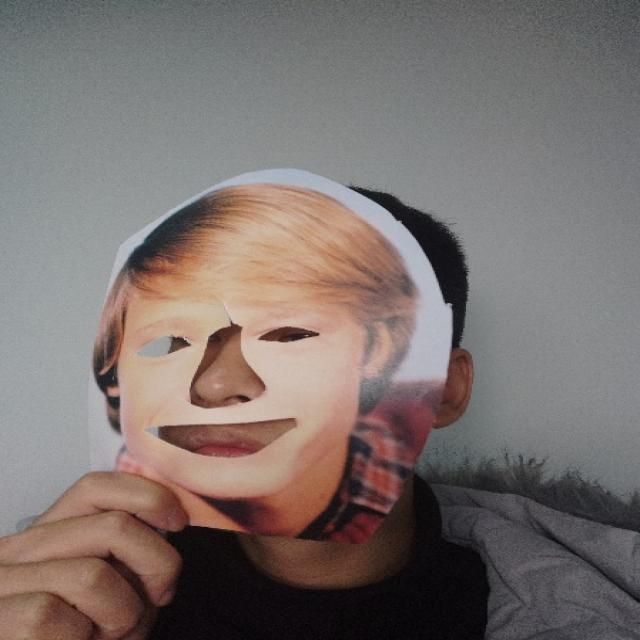mask: (86, 167, 456, 543)
